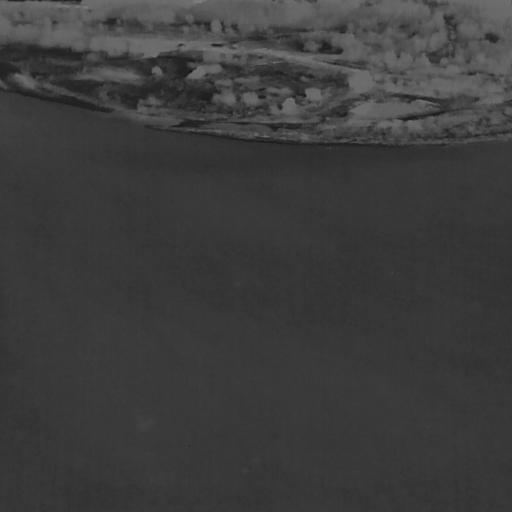uav: (388, 268, 397, 277)
